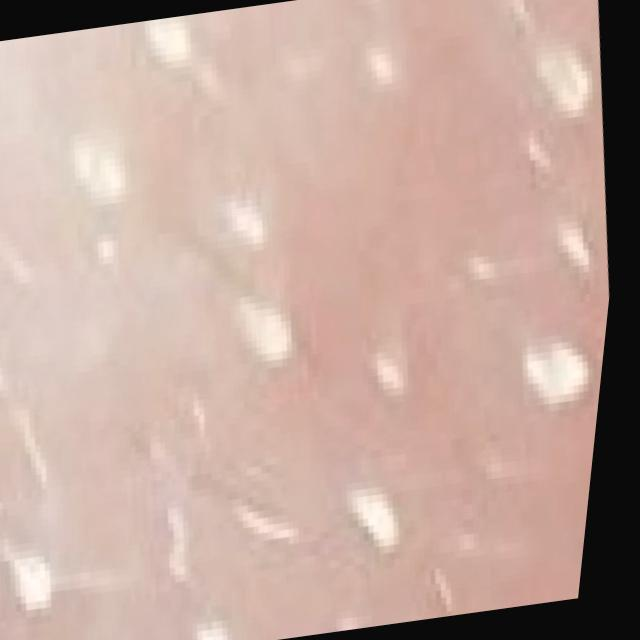whitehead: (0, 0, 609, 640)
